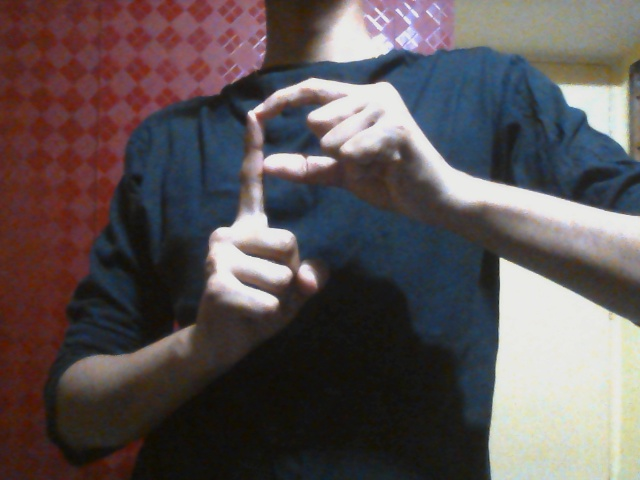P: (193, 76, 448, 364)
